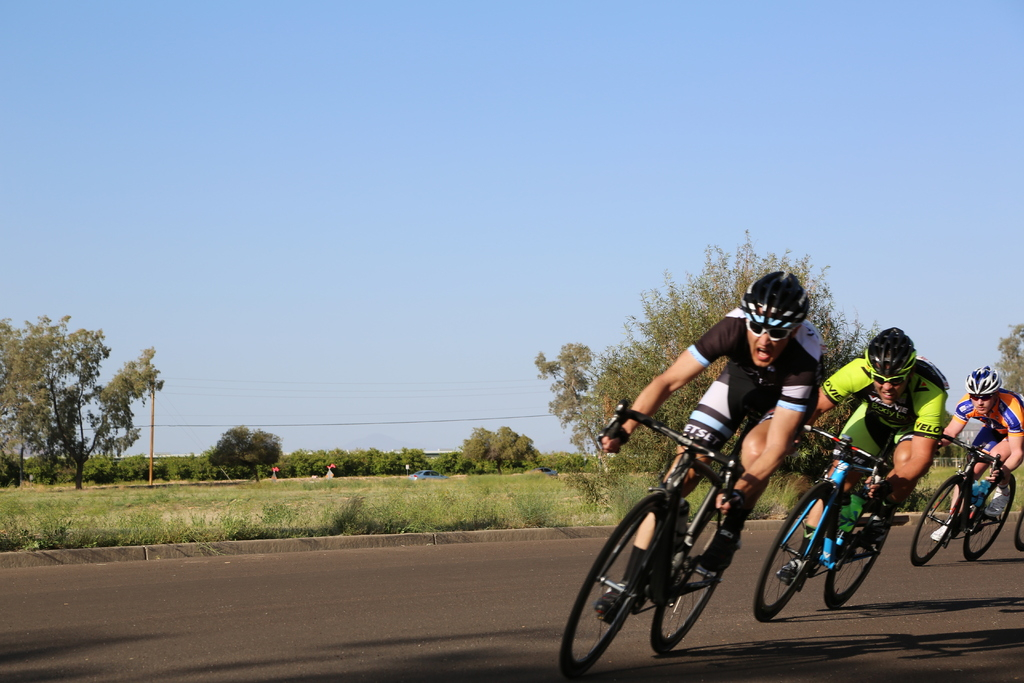Bike_toward: (566, 398, 757, 672), (758, 424, 904, 618), (908, 434, 1013, 559)
